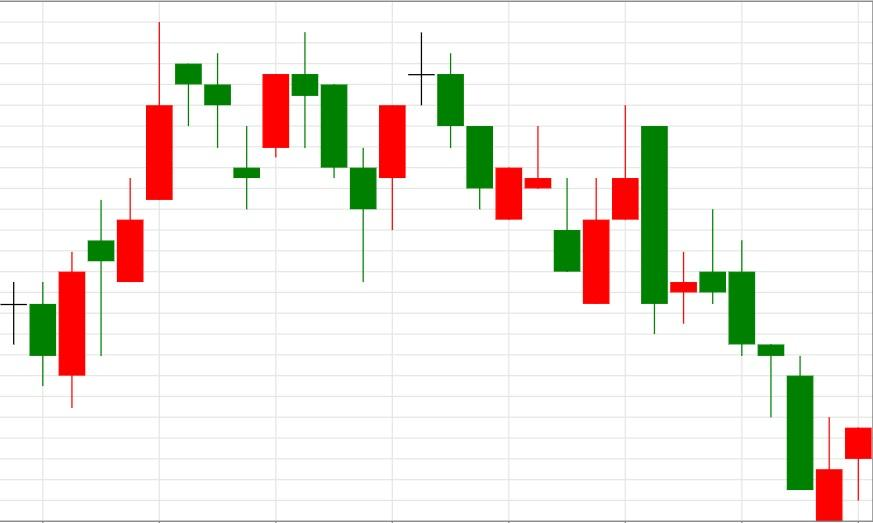bullish_engulfing_rise: (408, 32, 611, 305)
hanging_man_fall: (58, 22, 203, 409)
